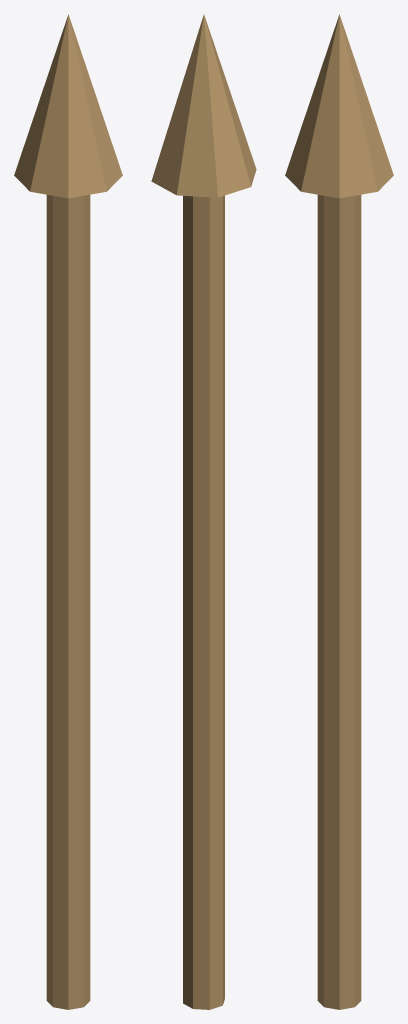
The model's file is spear.glb.
The picture shows the model from 3 angles, left to right: view 1: azimuth 90°, elevation 25°; view 2: azimuth 150°, elevation 25°; view 3: azimuth 270°, elevation 25°; orthographic projection.
Parts seen in each view (by area): view 1: spear; view 2: spear; view 3: spear.
Part boxes in pixels (<box>): spear: <box>14,14,122,1009</box>; spear: <box>151,14,256,1009</box>; spear: <box>285,14,393,1009</box>.
Bounding box in the file's own units: 0.11 × 1.1 × 0.11.
